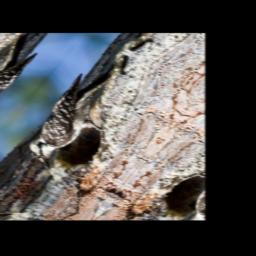Woodpecker: (6, 52, 147, 179)
